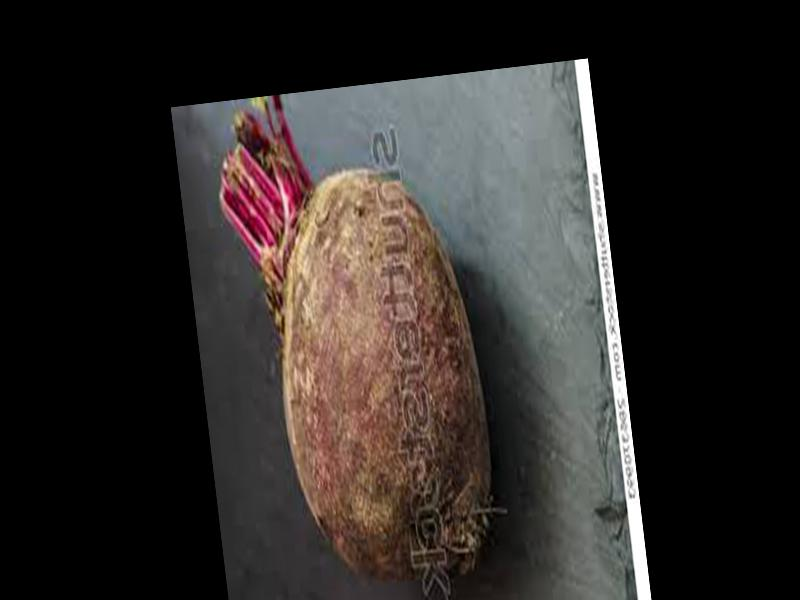Beet: (211, 78, 504, 600)
